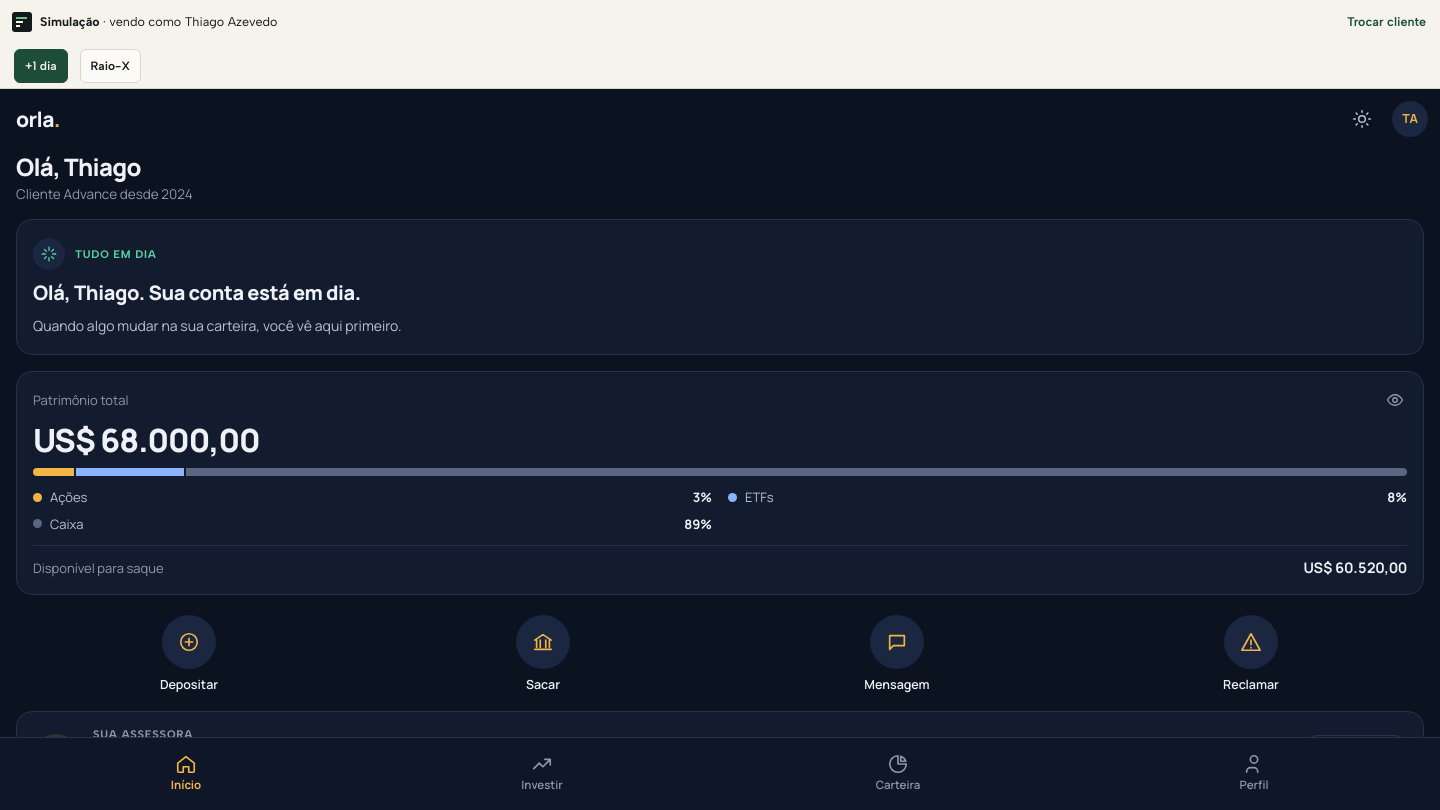
Test: client app home from the screen route › opens the coded deposit panel from a panel action
Click the button "Depositar" at (189, 653), box [16,611,362,695]
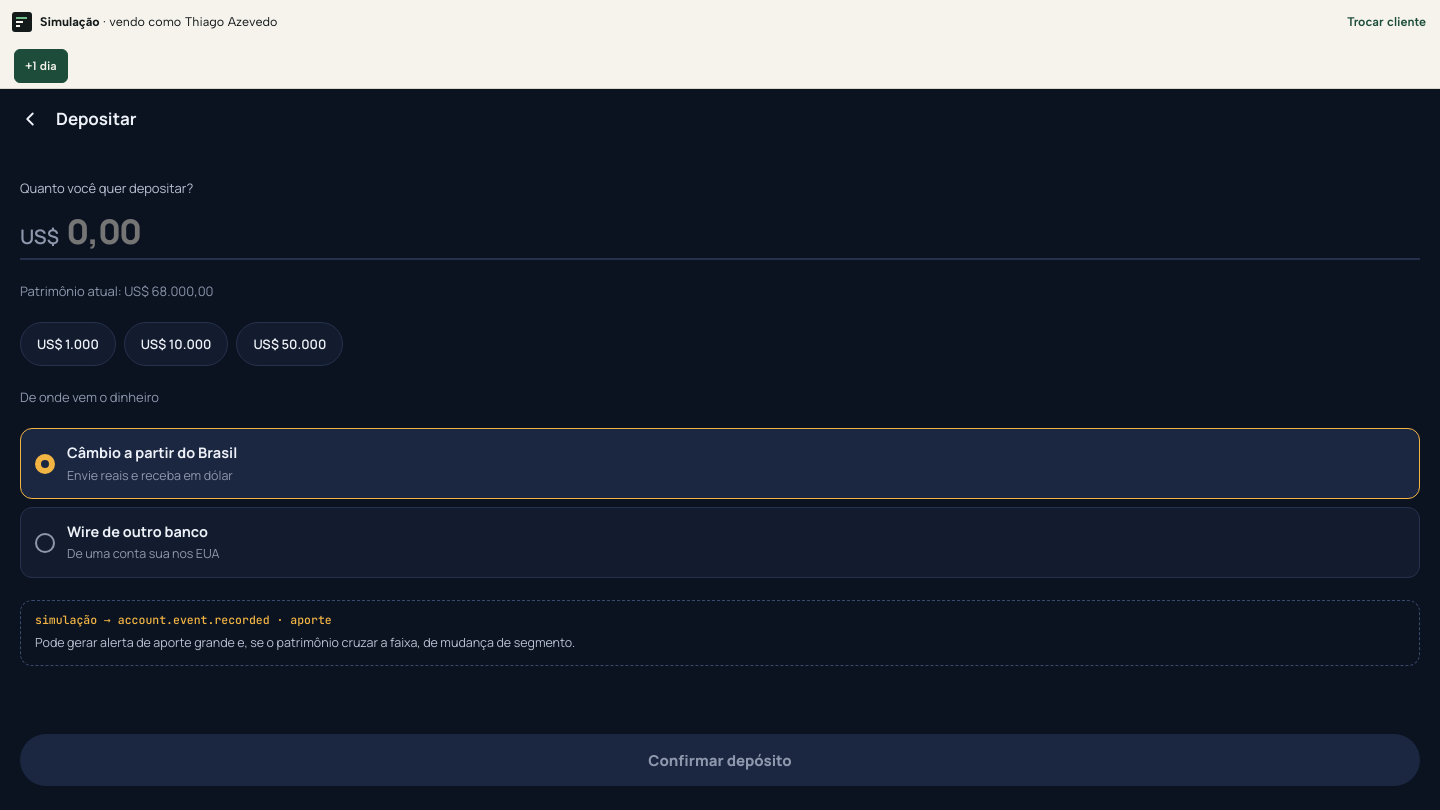
Now the field labelled "Quanto você quer depositar? US$" is shown, box [67,205,1420,258]
